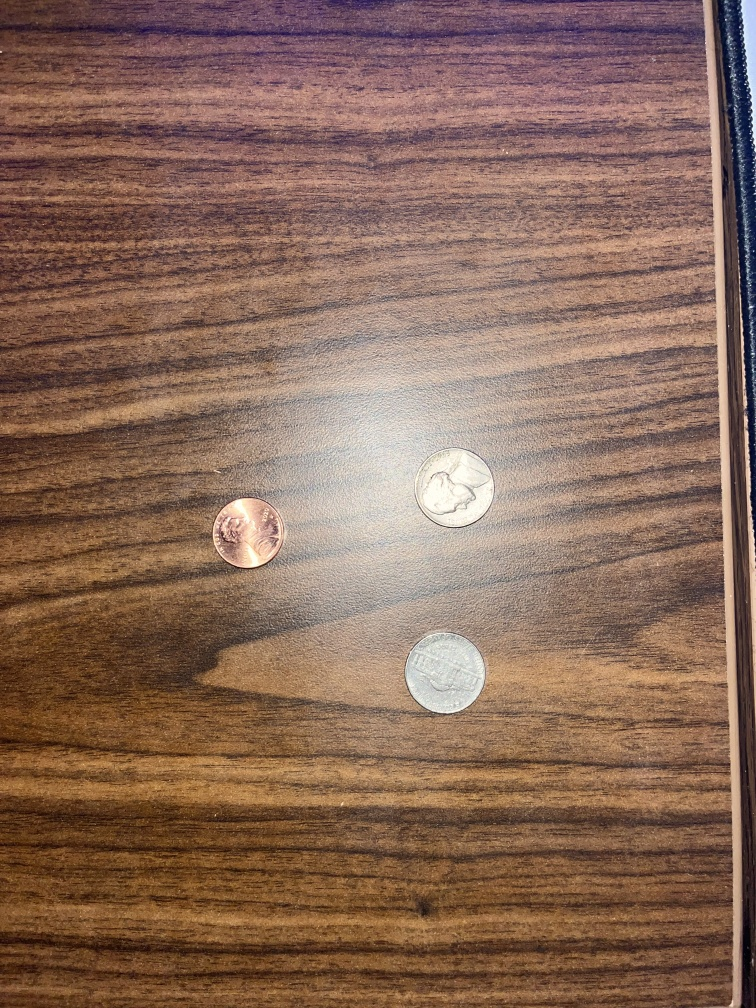nickel: (402, 623, 489, 724), (410, 443, 500, 532)
penny: (204, 490, 290, 576)
